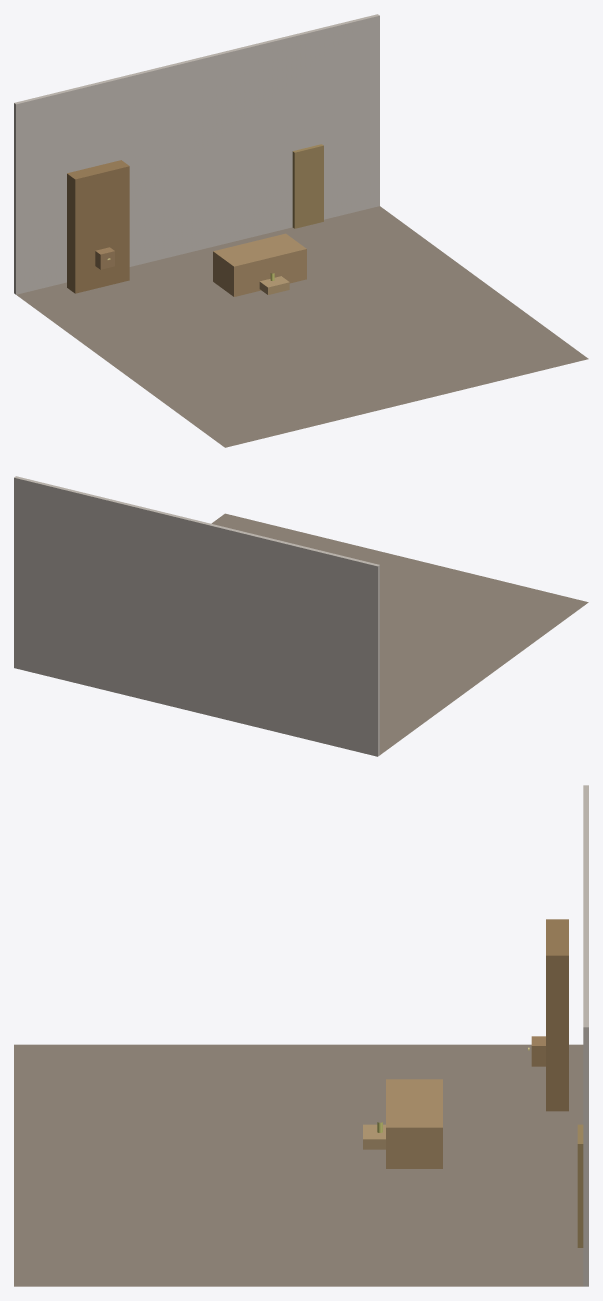
The model's file is study.gltf.
3 views of the same model, one above another, from view 1: azimuth 30°, elevation 25°; view 2: azimuth 150°, elevation 25°; view 3: azimuth 270°, elevation 25° (orthographic). The views are drawn at different scales.
Parts seen in each view (by area): view 1: Floor, BackWall, Bookshelf, Desk, Door; view 2: BackWall, Floor; view 3: Floor, Desk, Bookshelf, BackWall, Door.
Boxes of the visible parts, bbox=[...] form: Floor: bbox=[16, 206, 588, 447]; BackWall: bbox=[14, 14, 379, 294]; Bookshelf: bbox=[67, 160, 129, 293]; Desk: bbox=[213, 233, 306, 296]; Door: bbox=[292, 144, 323, 228]; BackWall: bbox=[14, 476, 379, 756]; Floor: bbox=[211, 513, 588, 754]; Floor: bbox=[14, 1044, 583, 1286]; Desk: bbox=[386, 1079, 442, 1168]; Bookshelf: bbox=[546, 919, 568, 1111]; BackWall: bbox=[583, 785, 588, 1286]; Door: bbox=[577, 1124, 583, 1247].
Bounding box in the file's own units: 10 × 5 × 10.05.
